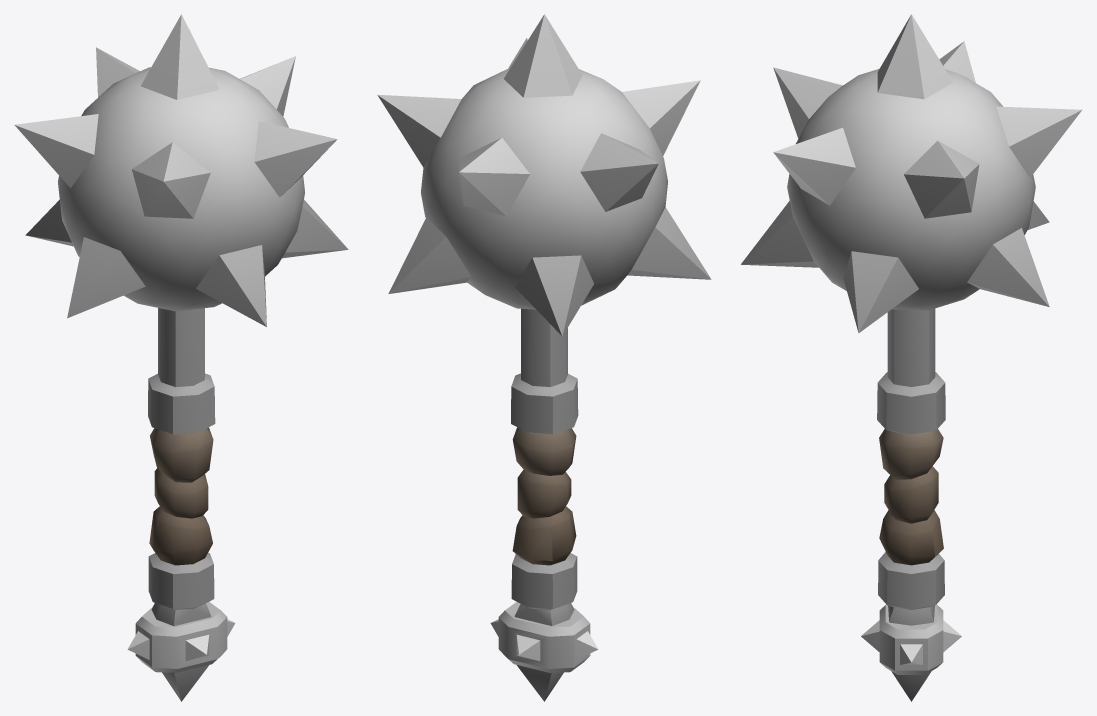
Rendered from mace.glb.
The picture shows the model from 3 angles, left to right: view 1: azimuth 30°, elevation 25°; view 2: azimuth 150°, elevation 25°; view 3: azimuth 270°, elevation 25°; orthographic projection.
Visible parts, largest first — view 1: hammer_B; view 2: hammer_B; view 3: hammer_B.
Part boxes in pixels (x1,y1,x2,y2): hammer_B: (14, 14, 348, 701); hammer_B: (377, 14, 711, 701); hammer_B: (741, 14, 1082, 701).
Bounding box in the file's own units: 0.6469 × 1.51 × 0.6801.
